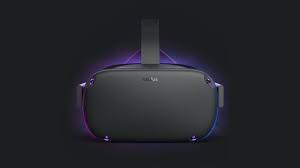oculus: (77, 57, 227, 147)
